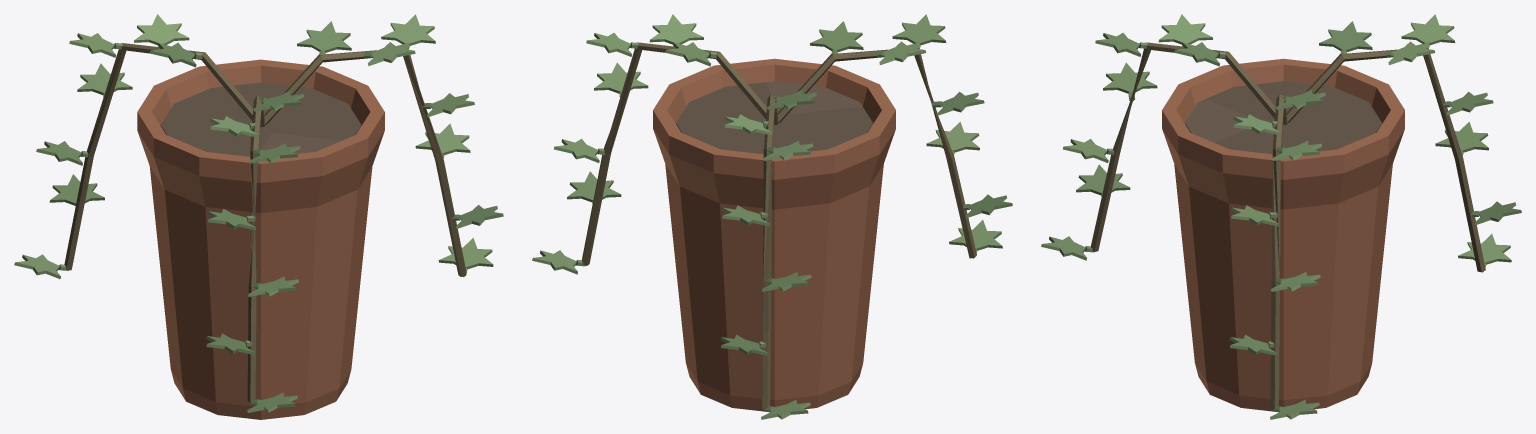
Rendered from vine.glb.
3 renders of one model, left to right at view 1: azimuth 30°, elevation 25°; view 2: azimuth 150°, elevation 25°; view 3: azimuth 270°, elevation 25°, orthographic.
Parts seen in each view (by area): view 1: vine/review-terra-vessel, vine/review-rooted-soil, vine/stem-001, vine/stem-031, vine/stem-016, vine/leaf-005, vine/leaf-033, vine/leaf-037, vine/leaf-009, vine/leaf-013, vine/leaf-041, vine/leaf-045 (+14 smaller); view 2: vine/review-terra-vessel, vine/review-rooted-soil, vine/stem-031, vine/stem-001, vine/stem-016, vine/leaf-018, vine/leaf-035, vine/leaf-022, vine/leaf-026, vine/leaf-039, vine/leaf-043, vine/leaf-030 (+14 smaller); view 3: vine/review-terra-vessel, vine/review-rooted-soil, vine/stem-001, vine/stem-031, vine/stem-016, vine/leaf-003, vine/leaf-020, vine/leaf-007, vine/leaf-024, vine/leaf-028, vine/leaf-011, vine/leaf-015 (+14 smaller).
Boxes of the visible parts, <box> form: vine/review-terra-vessel: <box>137,59,384,419</box>; vine/review-rooted-soil: <box>160,82,361,156</box>; vine/stem-001: <box>64,43,253,270</box>; vine/stem-031: <box>264,48,466,276</box>; vine/stem-016: <box>247,96,264,402</box>; vine/leaf-005: <box>134,14,189,44</box>; vine/leaf-033: <box>297,21,351,52</box>; vine/leaf-037: <box>381,14,435,45</box>; vine/leaf-009: <box>77,63,132,94</box>; vine/leaf-013: <box>49,174,104,205</box>; vine/leaf-041: <box>415,123,470,154</box>; vine/leaf-045: <box>438,237,493,268</box>; vine/review-terra-vessel: <box>653,58,895,411</box>; vine/review-rooted-soil: <box>676,81,872,154</box>; vine/stem-031: <box>582,42,766,265</box>; vine/stem-001: <box>762,94,777,409</box>; vine/stem-016: <box>777,48,976,258</box>; vine/leaf-018: <box>810,21,863,51</box>; vine/leaf-035: <box>649,14,703,44</box>; vine/leaf-022: <box>892,14,946,45</box>; vine/leaf-026: <box>926,121,979,152</box>; vine/leaf-039: <box>594,62,648,93</box>; vine/leaf-043: <box>567,171,621,202</box>; vine/leaf-030: <box>949,220,1002,250</box>; vine/review-terra-vessel: <box>1162,58,1404,411</box>; vine/review-rooted-soil: <box>1185,81,1381,154</box>; vine/stem-001: <box>1286,48,1485,272</box>; vine/stem-031: <box>1270,94,1286,409</box>; vine/stem-016: <box>1090,42,1275,251</box>; vine/leaf-003: <box>1319,21,1372,51</box>; vine/leaf-020: <box>1158,14,1212,44</box>; vine/leaf-007: <box>1401,14,1455,45</box>; vine/leaf-024: <box>1103,62,1157,93</box>; vine/leaf-028: <box>1076,164,1130,195</box>; vine/leaf-011: <box>1435,121,1488,152</box>; vine/leaf-015: <box>1458,234,1511,264</box>.
Bounding box in the file's own units: 0.3403 × 0.2757 × 0.3759.
4 materials, 4 textured.
